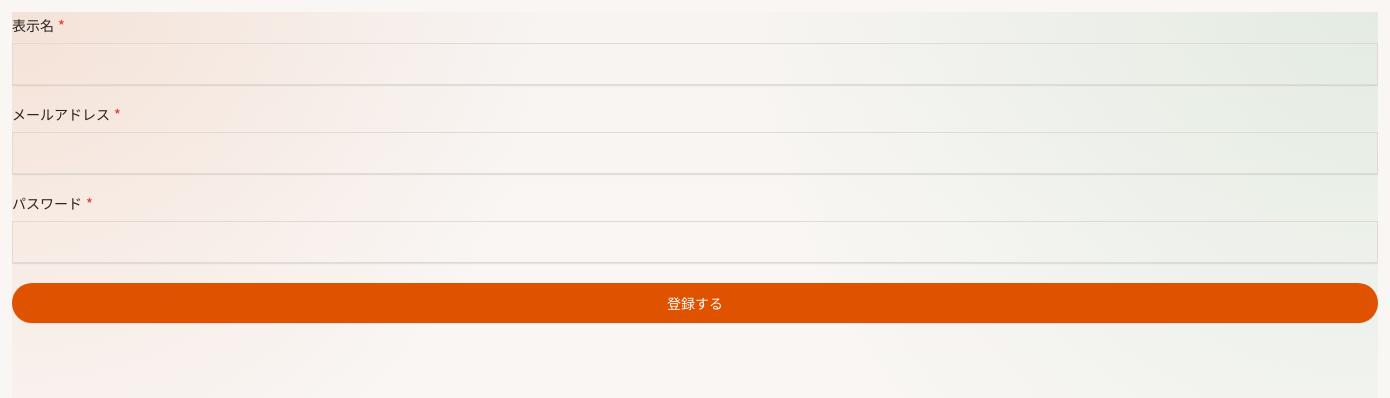
Test case: RegisterForm › shows a generic error for unexpected registration failures
Type "Alice" into the field labelled "表示名" at (695, 64), box [12, 43, 1378, 85]
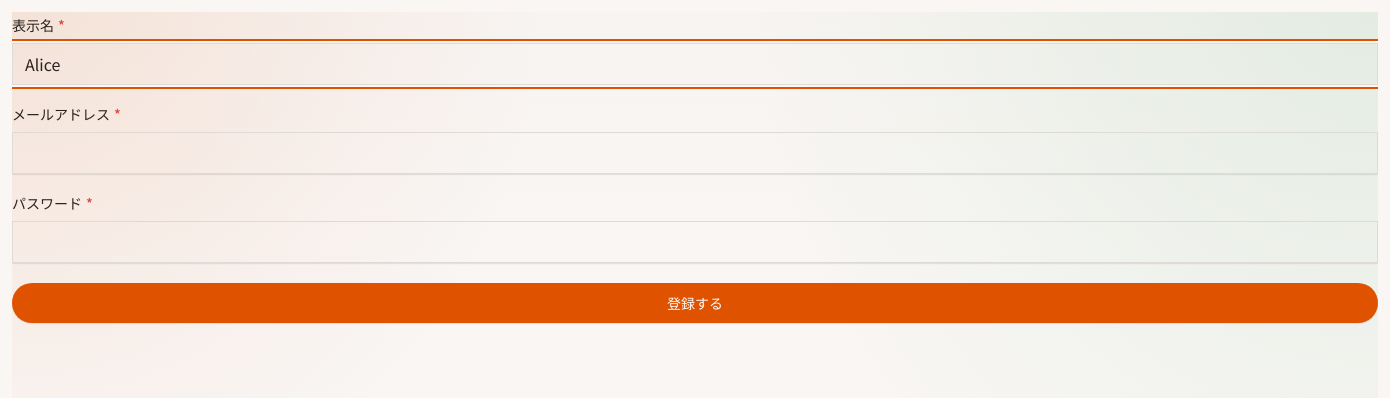
Type "alice@example.com" into the field labelled "メールアドレス" at (695, 153), box [12, 132, 1378, 174]
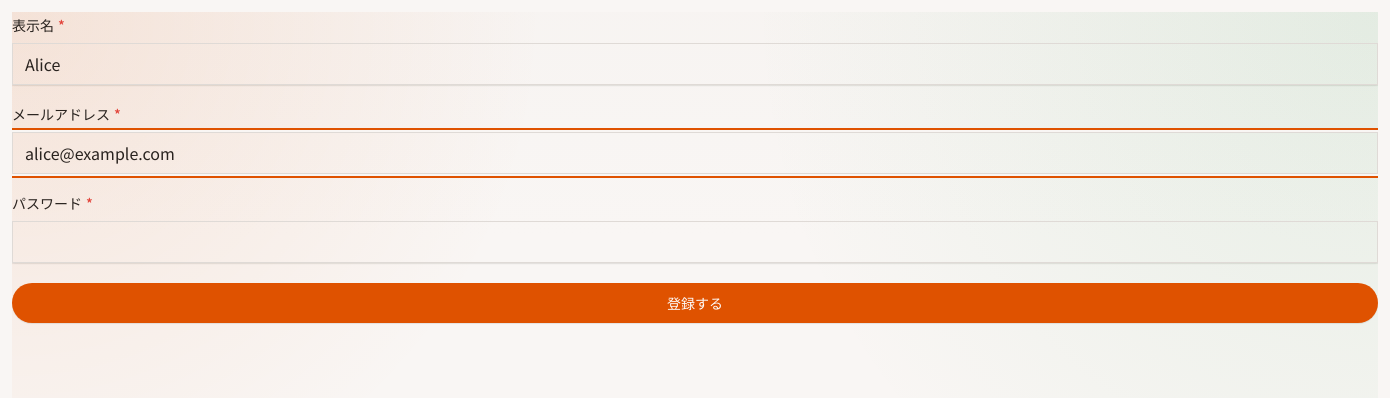
Type "correct-password" into the password field labelled "パスワード" at (695, 242), box [12, 221, 1378, 263]
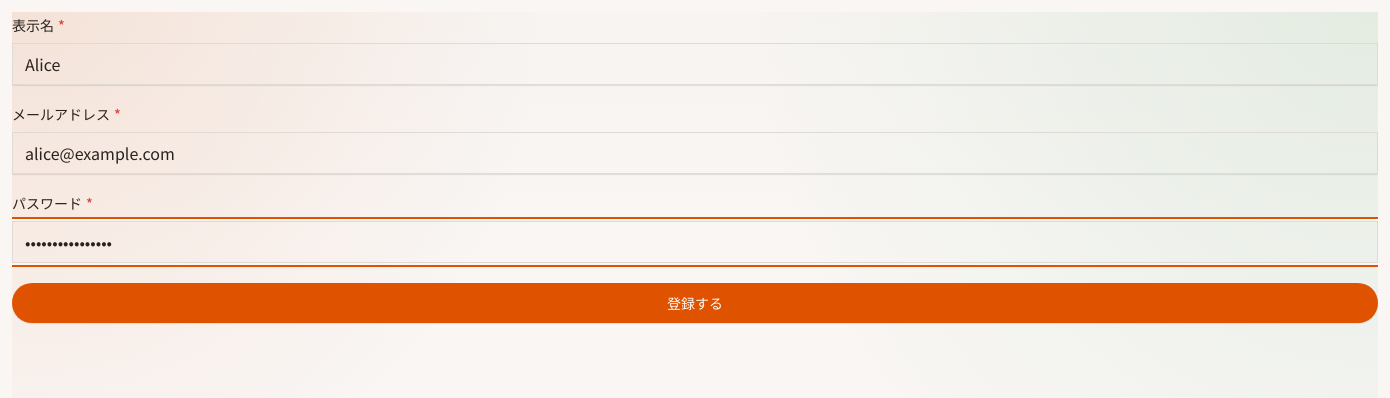
Click the button "登録する" at (695, 303), box [12, 283, 1378, 323]
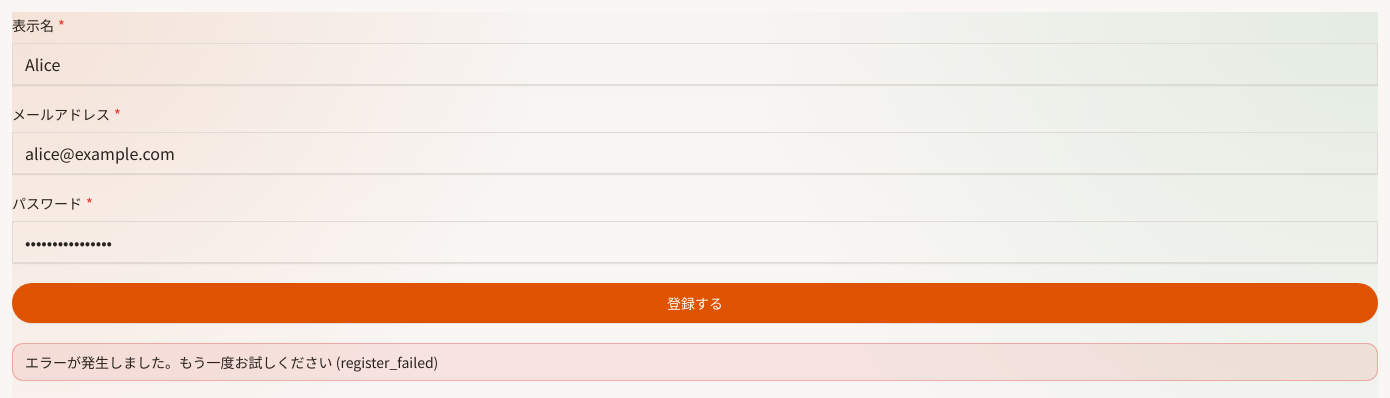
Check: the message shows "エラーが発生しました。もう一度お試しください", box [25, 352, 438, 372]
